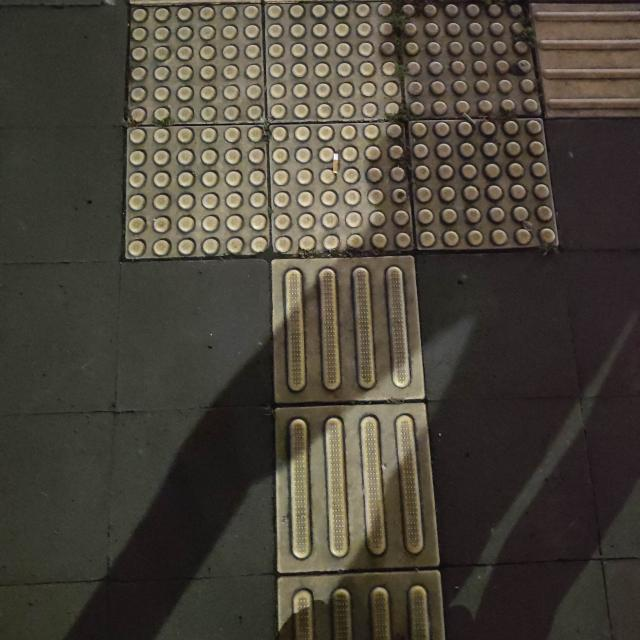kanan: (217, 0, 640, 346)
